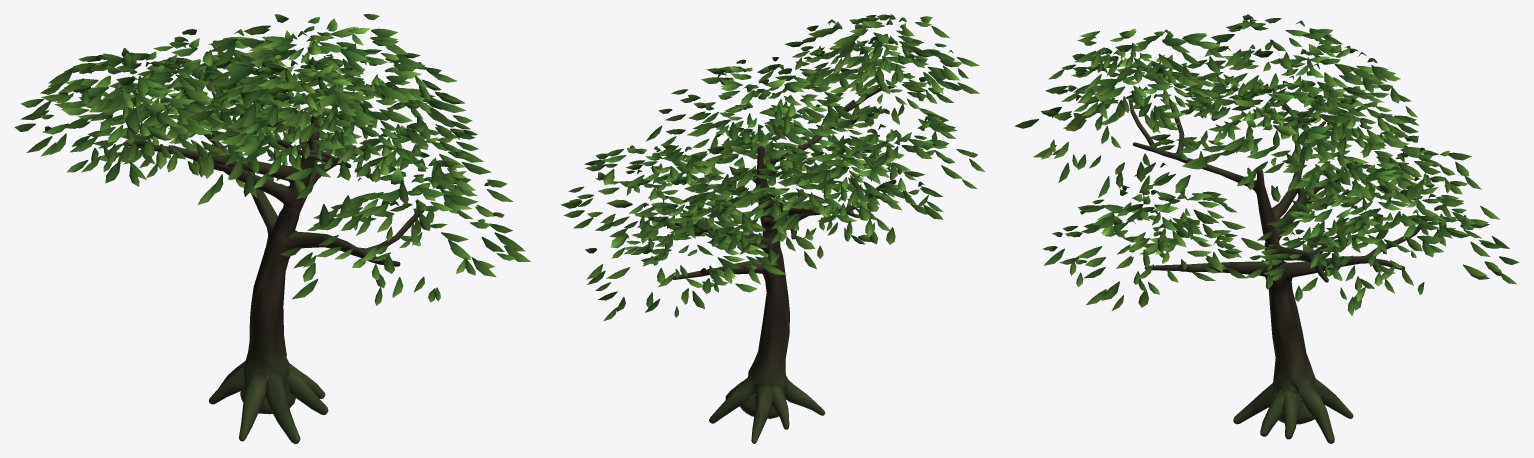
The model's file is tree_pear.glb.
The picture shows the model from 3 angles, left to right: view 1: azimuth 30°, elevation 25°; view 2: azimuth 150°, elevation 25°; view 3: azimuth 270°, elevation 25°; orthographic projection. The views are drawn at different scales.
Parts seen in each view (by area): view 1: tree_pear; view 2: tree_pear; view 3: tree_pear.
Part boxes in pixels (x1,y1,x2,y2): tree_pear: (14,14,530,443); tree_pear: (560,14,984,443); tree_pear: (1014,14,1519,443).
Bounding box in the file's own units: 6.37 × 5.64 × 7.06.
